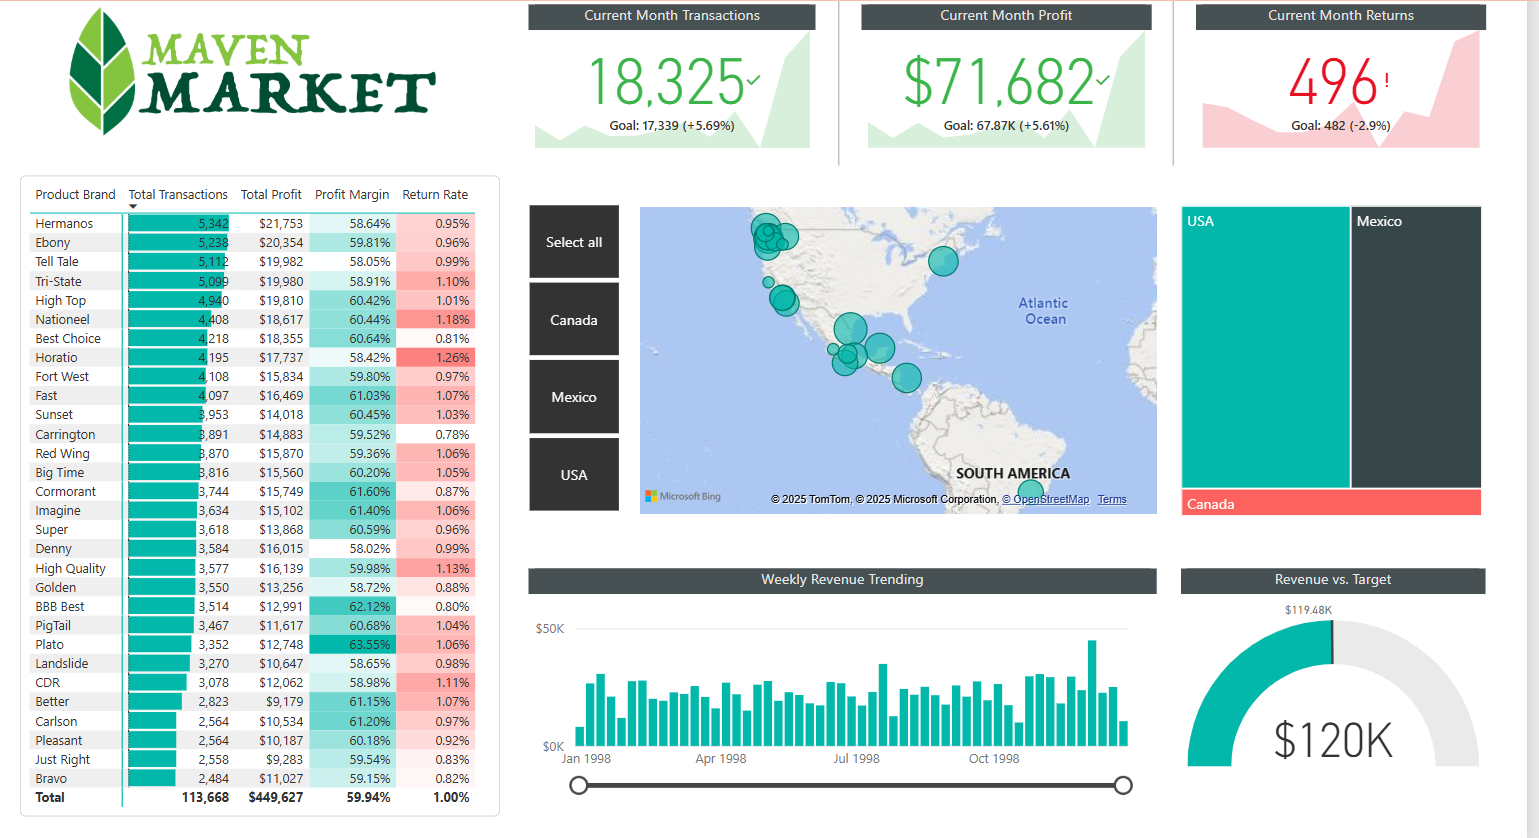

The page's visual inventory and layout, read from the dashboard file:
{"tool":"powerbi","page":{"name":"Analysis","canvas":[1280,720],"ordinal":0},"visuals":[{"type":"image","box":[40,7.5,346.6,132.7],"z":0},{"type":"pivotTable","fields":{"Values":["Transaction_Data.Total Transactions","Transaction_Data.Total Profit","Transaction_Data.Profit Margin","Return_Data.Return Rate"],"Rows":["Products.product_brand"]},"box":[20.6,161.3,401.5,536],"z":1000},{"type":"kpi","title":"Current Month Transactions","fields":{"TrendLine":["Calendar.Start of Month"],"Goal":["Transaction_Data.Last Month Transactions"],"Indicator":["Transaction_Data.Total Transactions"]},"box":[445.9,19,240.2,124.7],"z":2000},{"type":"kpi","title":"Current Month Profit","fields":{"TrendLine":["Calendar.Start of Month"],"Goal":["Transaction_Data.Last Month Profit"],"Indicator":["Transaction_Data.Total Profit"]},"box":[723.3,19,242.5,124.7],"z":3000},{"type":"kpi","title":"Current Month Returns","fields":{"TrendLine":["Calendar.Start of Month"],"Goal":["Return_Data.Last Month Returns"],"Indicator":["Return_Data.Total Returns"]},"box":[1003,19,242.5,124.7],"z":4000},{"type":"map","fields":{"Category":["Stores.store_city"],"Size":["Transaction_Data.Total Transactions"]},"box":[532.8,182.5,442.7,266.5],"z":5000},{"type":"slicer","fields":{"Values":["Stores.store_country"]},"box":[420.5,178.9,124.7,270],"z":6000},{"type":"columnChart","title":"Weekly Revenue Trending","fields":{"Category":["Calendar.Start of Week"],"Y":["Transaction_Data.Total Revenue"]},"box":[445.9,490,525.3,192.2],"z":7000},{"type":"gauge","title":"Revenue vs. Target","fields":{"Y":["Transaction_Data.Total Revenue"],"TargetValue":["Transaction_Data.Revenue Target"]},"box":[991.1,490,254.4,171.6],"z":8000},{"type":"basicShape","box":[671.7,2.9,67.5,161.3],"z":9000},{"type":"basicShape","box":[950.3,2.9,67.5,161.3],"z":10000},{"type":"treemap","fields":{"Group":["Stores.store_country","Stores.store_state","Stores.store_city"],"Values":["Transaction_Data.Total Transactions"]},"box":[985.8,181.4,261.9,270],"z":11000}]}

Visuals, with their boxes on the page's 1280x720 design canvas (x1, y1, x2, y2). These are canvas units, not pixel positions in the 1539x838 screenshot, which may show the page scaled, cropped or inside an application window:
image: (40,8,387,140)
pivotTable - Transaction_Data.Total Transactions x Transaction_Data.Total Profit: (21,161,422,697)
"Current Month Transactions" kpi: (446,19,686,144)
"Current Month Profit" kpi: (723,19,966,144)
"Current Month Returns" kpi: (1003,19,1246,144)
map - Stores.store_city x Transaction_Data.Total Transactions: (533,182,976,449)
slicer - Stores.store_country: (420,179,545,449)
"Weekly Revenue Trending" columnChart: (446,490,971,682)
"Revenue vs. Target" gauge: (991,490,1246,662)
basicShape: (672,3,739,164)
basicShape: (950,3,1018,164)
treemap - Stores.store_country x Stores.store_state: (986,181,1248,451)
